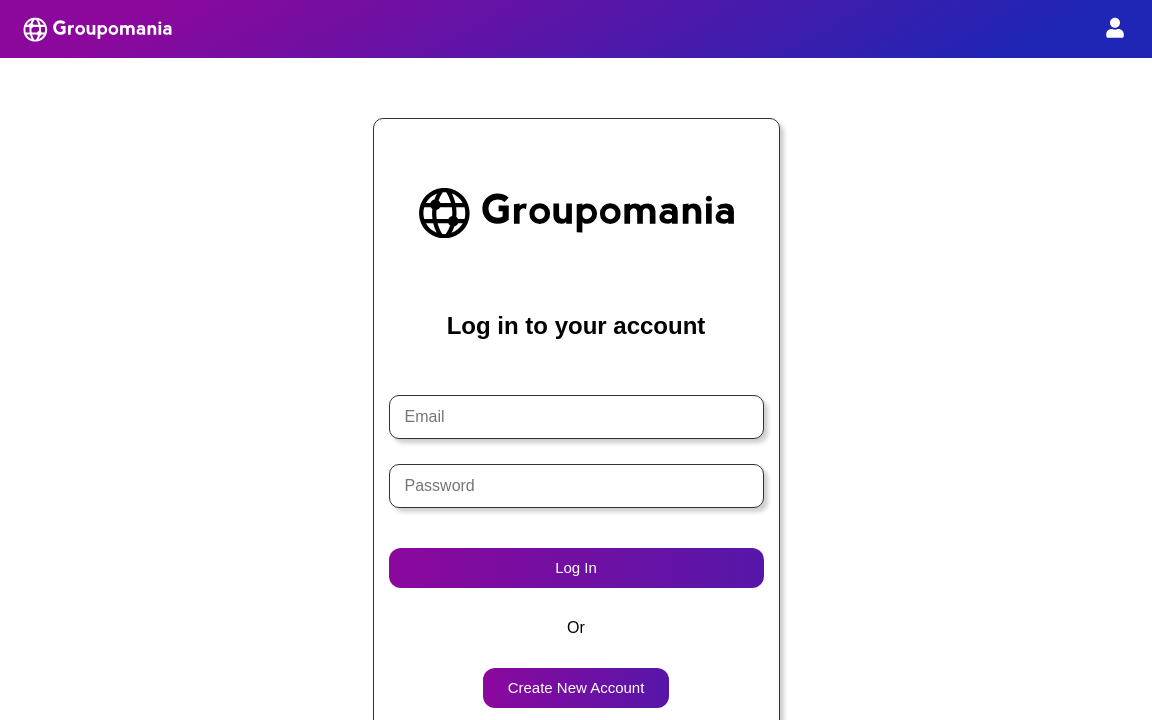
Login/Create Account form Validation and Error Handling › cannot log in if password or email is missing
Type "test@user.com" into the field with class "form__input" showing "Email" at {"x": 577, "y": 417}, box [389,395,764,439]
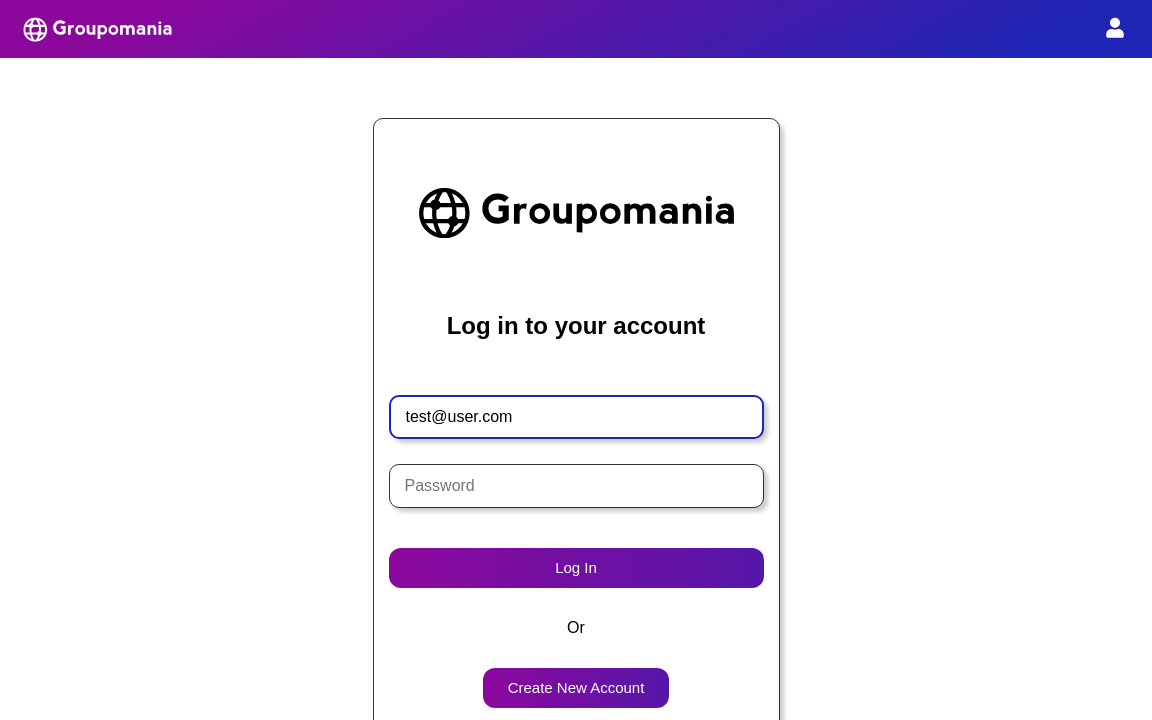
Click the button "Log In" at {"x": 577, "y": 568}, box [389,548,764,588]
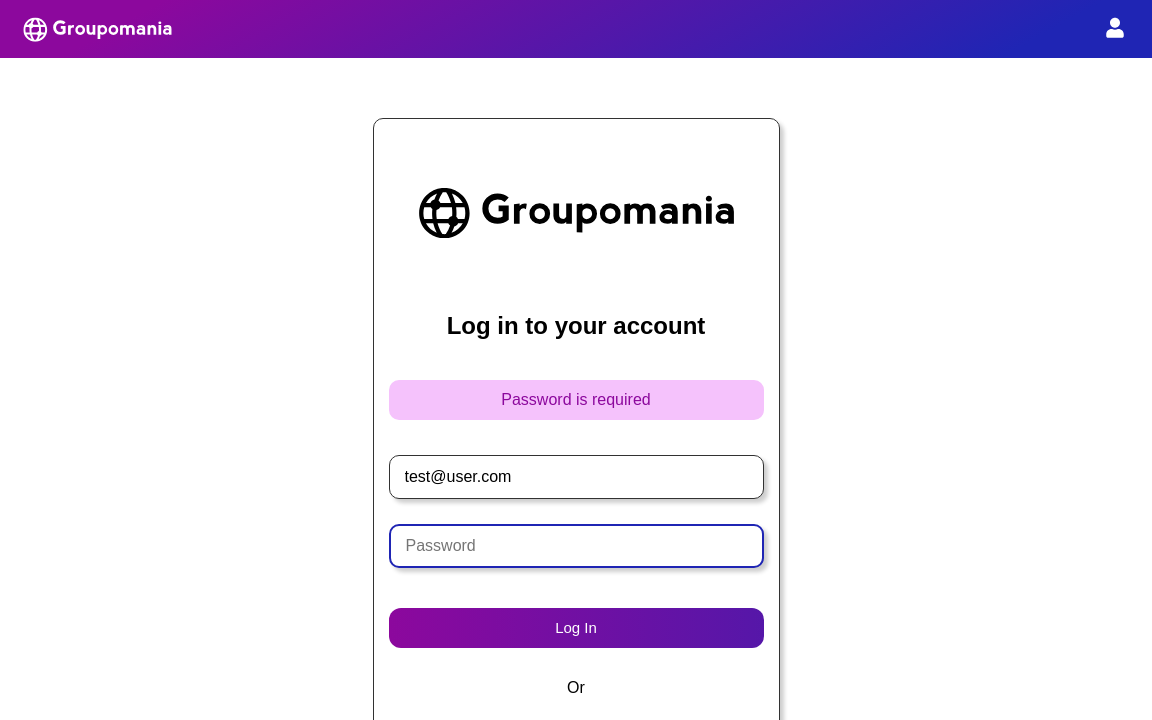
Check: the text "Password is required" is shown, box [388,380,764,420]
Open "http://localhost:3006"
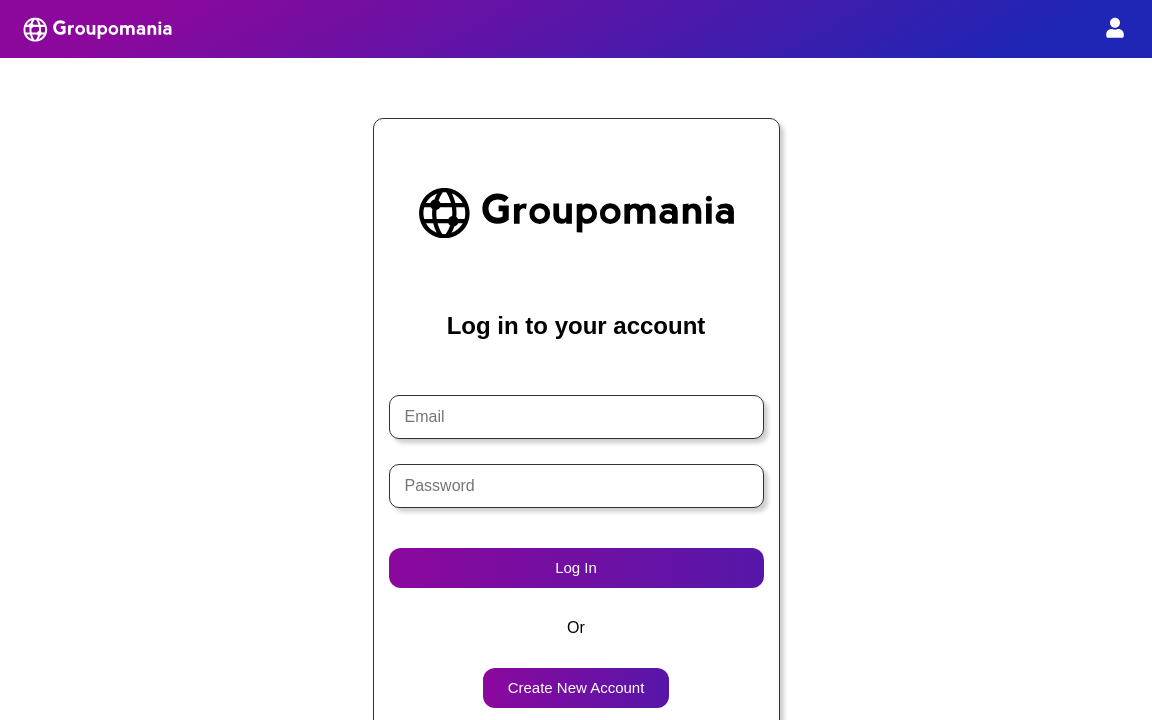
Type "1234567890" into the password field with class "form__input" showing "Password" at {"x": 577, "y": 486}, box [389,464,764,508]
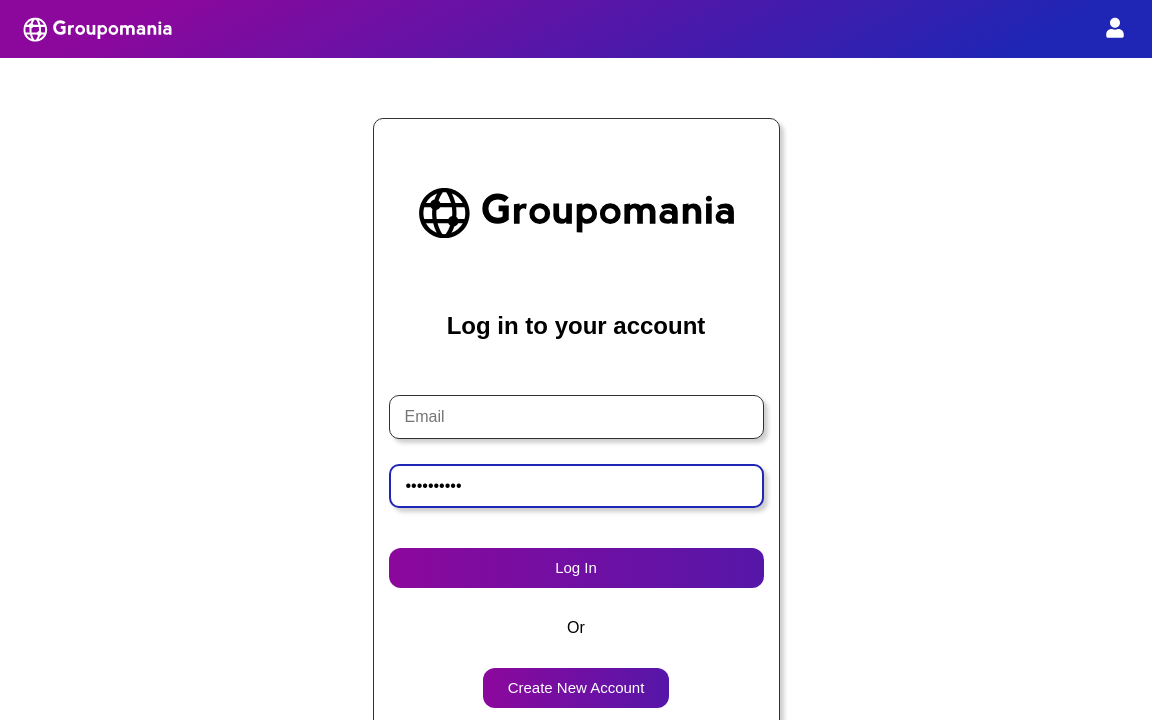
Click the button "Log In" at {"x": 577, "y": 568}, box [389,548,764,588]
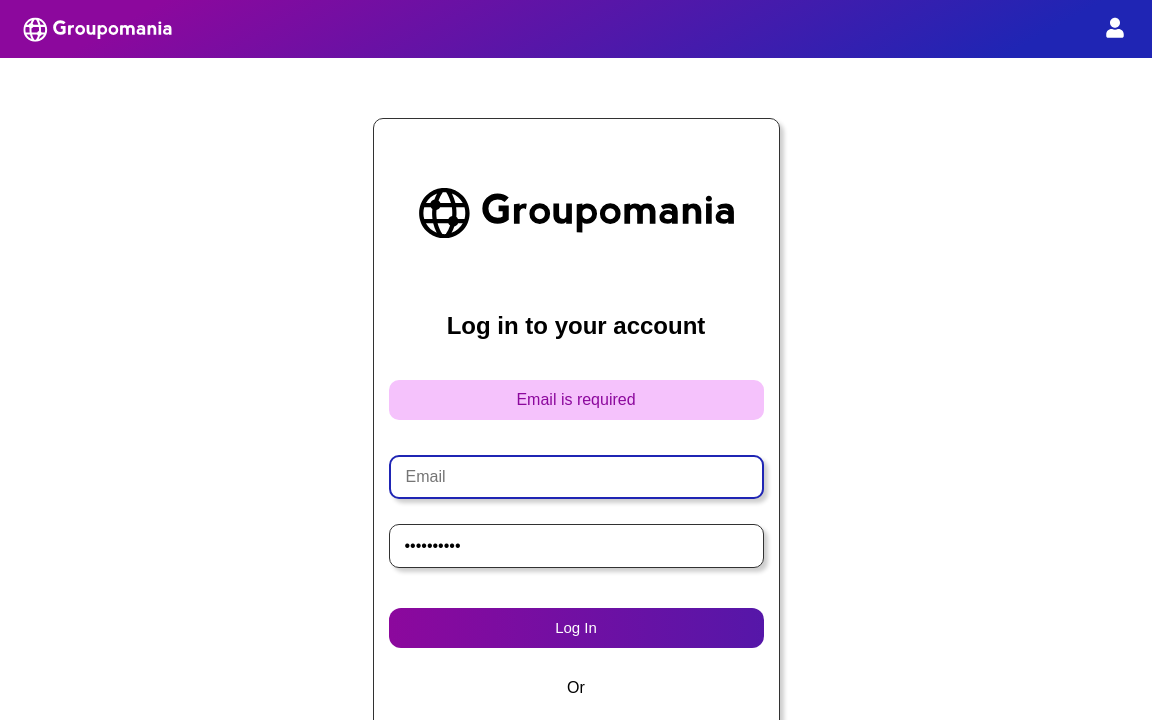
Check: the text "Email is required" is shown, box [388,380,764,420]
